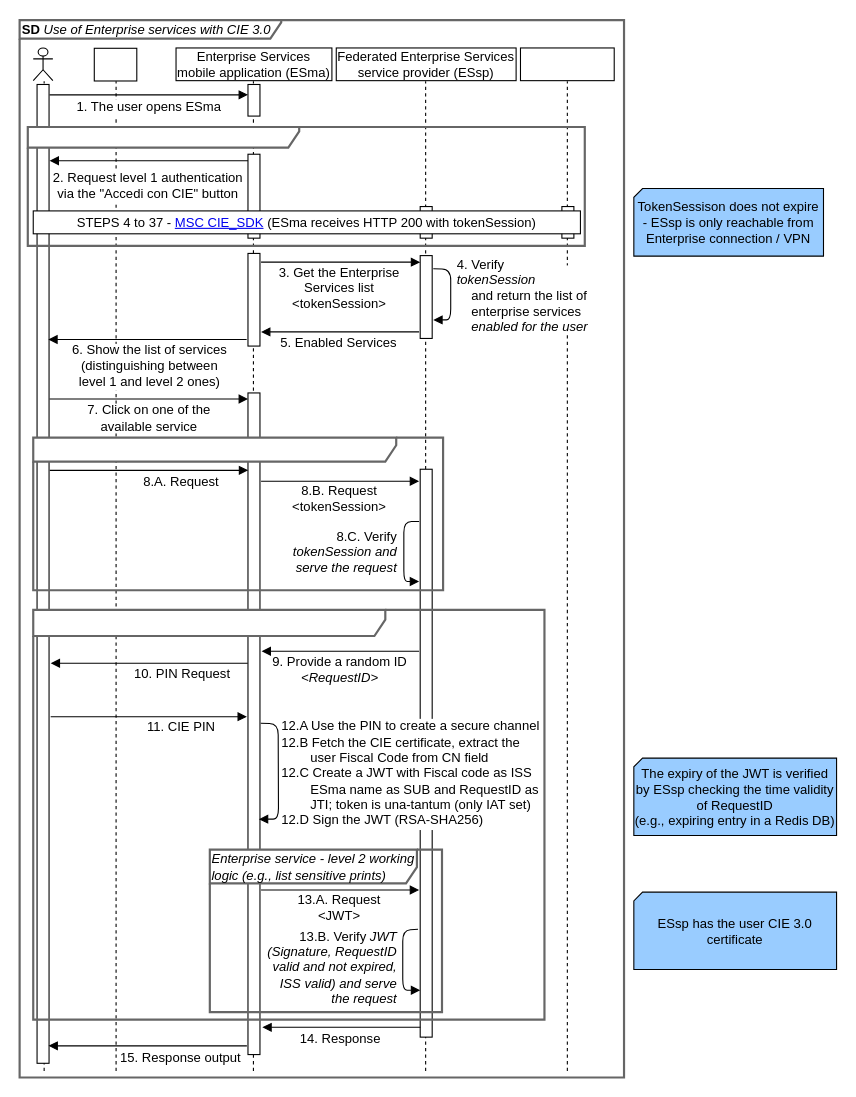
This 856x1097 diagram has some shape labels left out. Each missing label, with the centre of its shape:
"CIE 3.0" goes at point (115, 64).
"CieID Server (IDP)" goes at point (566, 64).
"Enterprise service - level 1 working logic (e.g., list all printers)" goes at point (238, 513).
"opt The service offer level 2 features - e.g., secure printing)" goes at point (288, 814).
"opt User Authentication - integrated CIE SDK" goes at point (305, 185).
